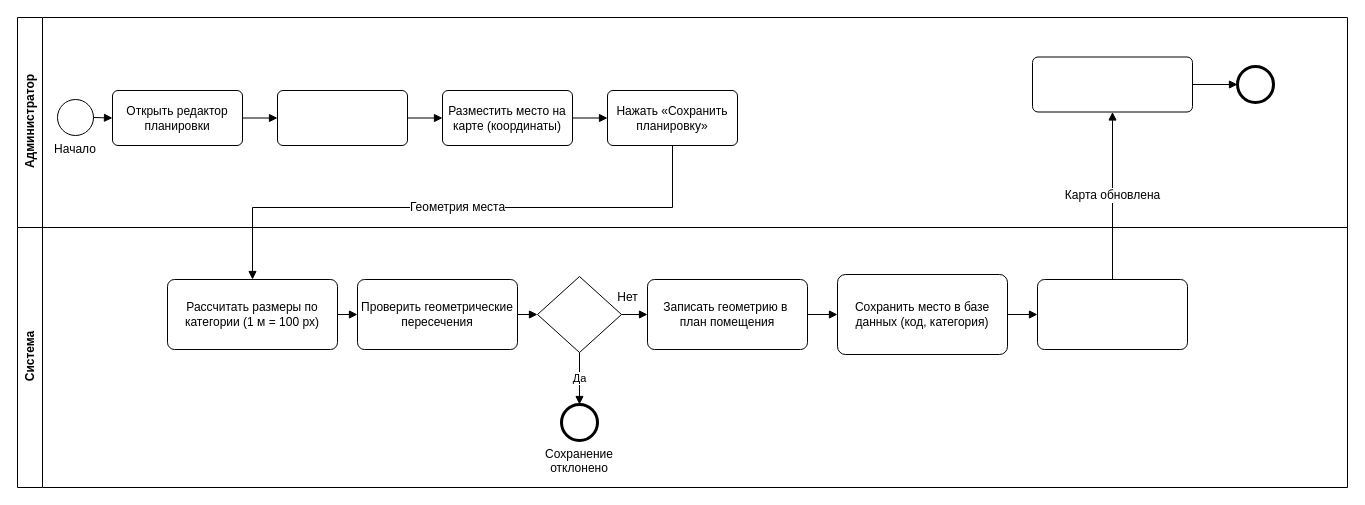
The diagram is 1365 pixels wide and 505 high, and some of its shapes have lost their labels. The shapes that lost their labels are listed below. From the top down, each one's centre as x and y in pixels, then its label:
the point at 1112,84: Просмотр обновлённой планировки
the point at 1255,84: Место добавлено
the point at 342,118: Выбрать категорию места
the point at 579,314: Есть конфликт?
the point at 1112,314: Обновить актуальную карту
